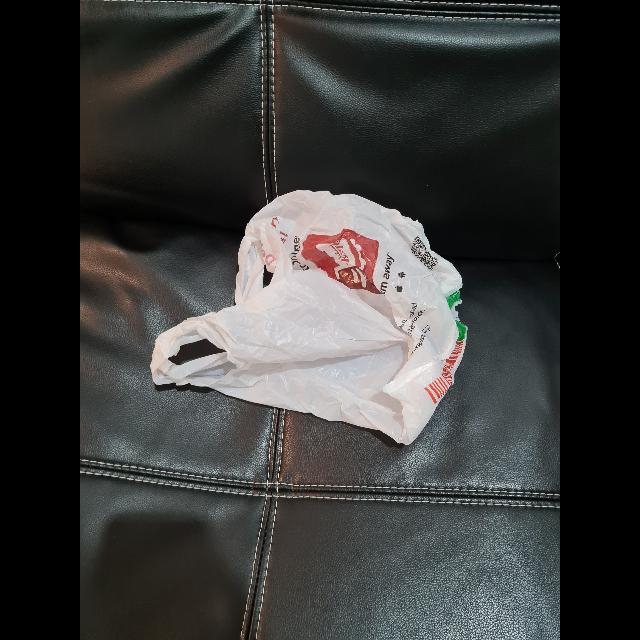plastic_bag: (138, 198, 478, 432)
